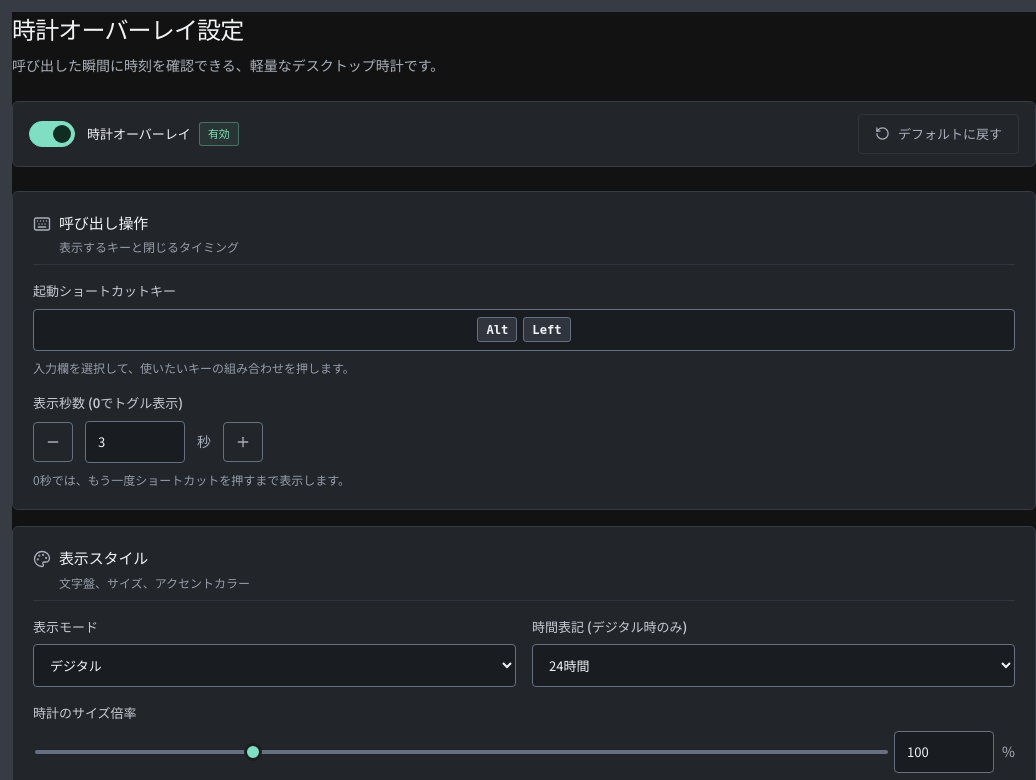
Test: ClockSettings component › adjusts auto-hide seconds with step buttons
Expected: the heading "時計オーバーレイ設定" is shown, left=12, top=12, right=243, bottom=46
Click the button named "表示秒数を1秒減らす" at (53, 442), box left=33, top=422, right=73, bottom=462
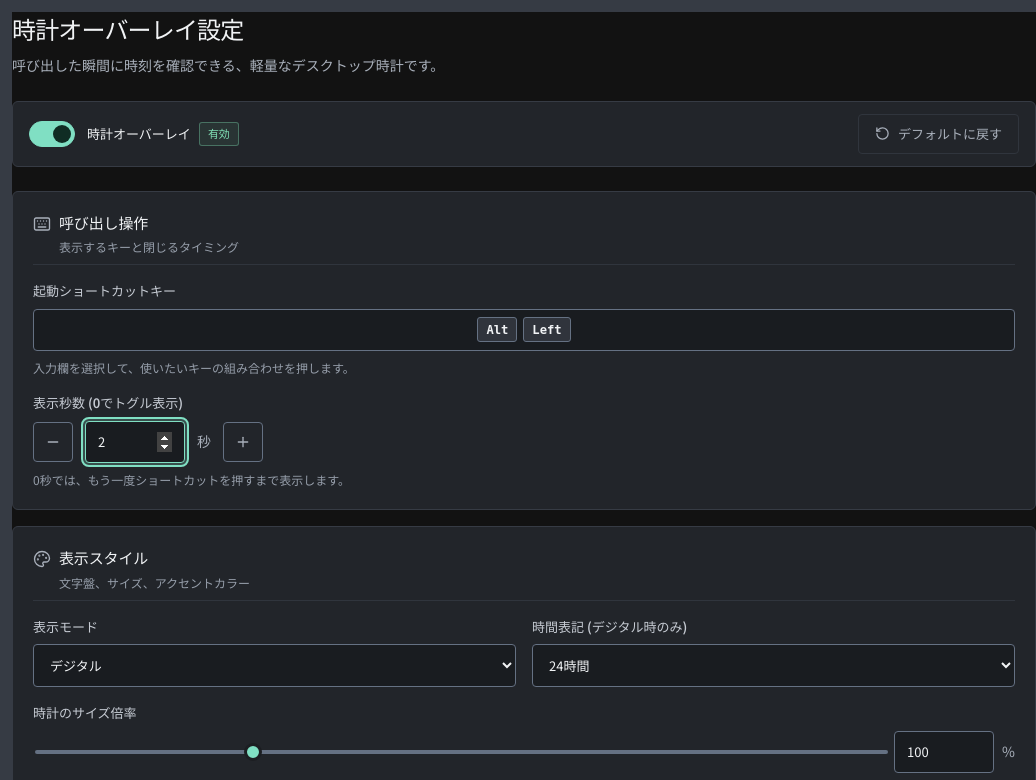
Result: the number field labelled "表示秒数 (0でトグル表示)" holds "2" at left=85, top=421, right=185, bottom=463
Click the button named "表示秒数を1秒増やす" at (243, 442), box left=223, top=422, right=263, bottom=462
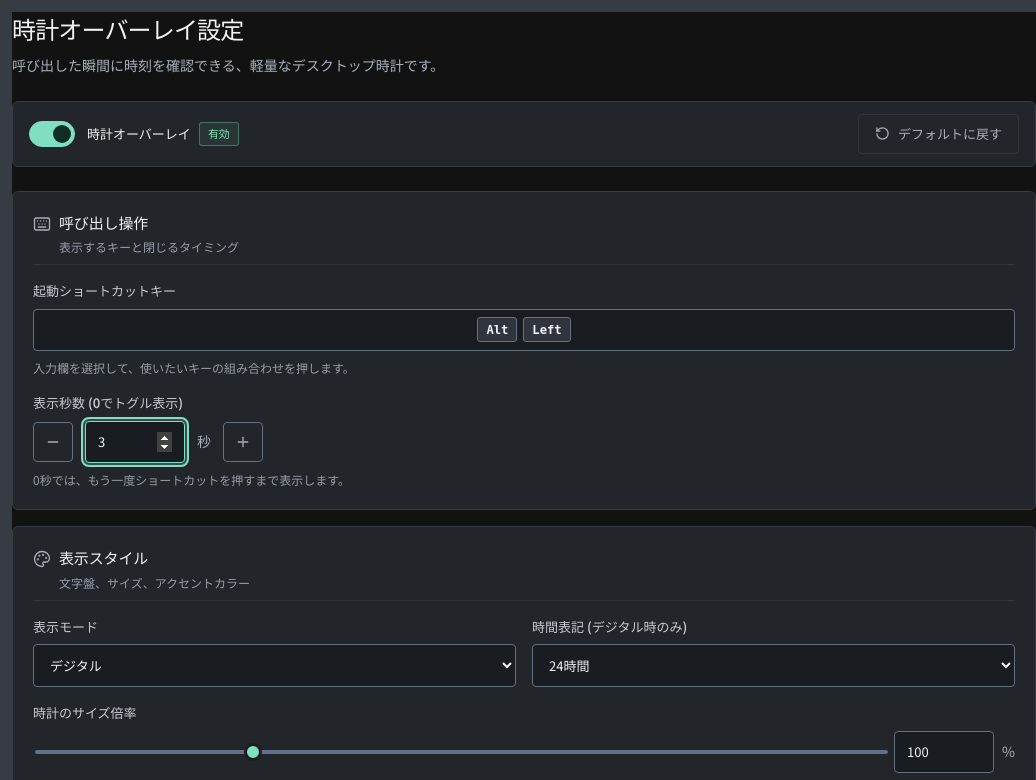
Click the button named "表示秒数を1秒増やす" at (243, 442), box left=223, top=422, right=263, bottom=462
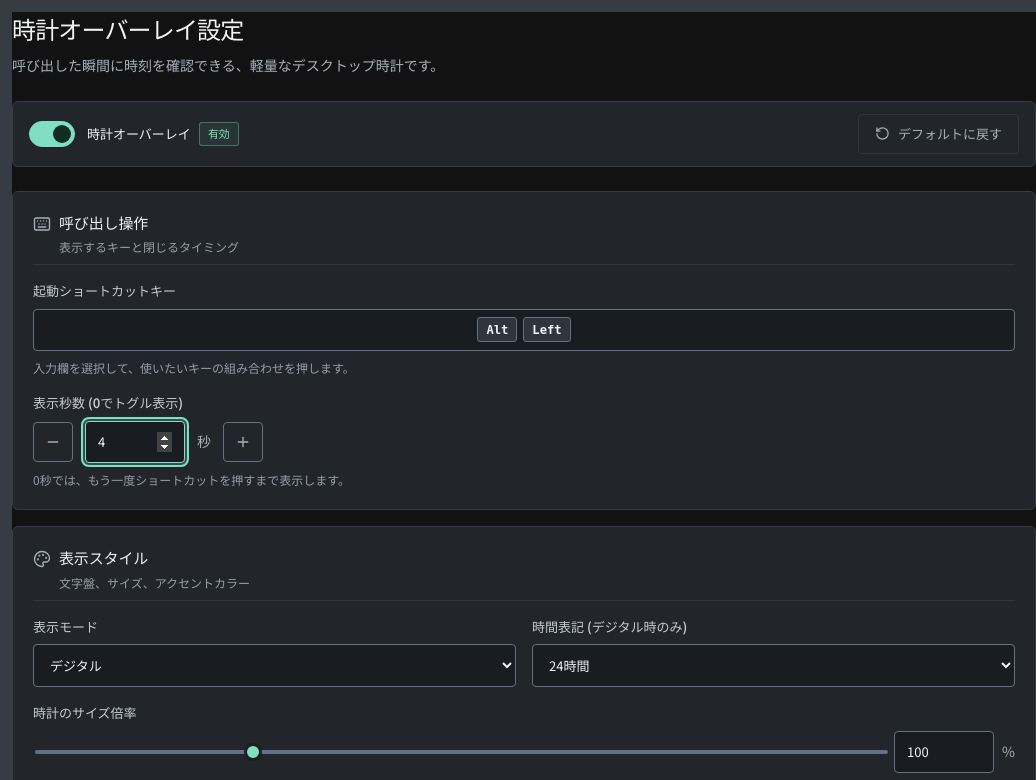
Result: the number field labelled "表示秒数 (0でトグル表示)" holds "4" at left=85, top=421, right=185, bottom=463
